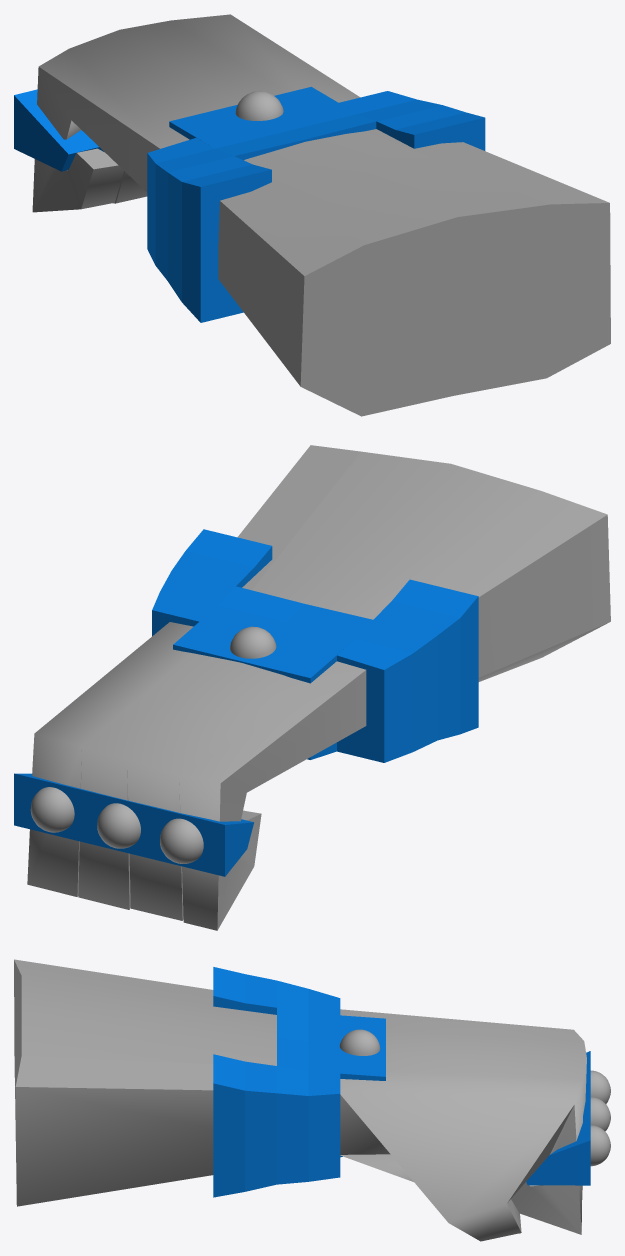
The model's file is Left_Fist.fbx.
3 renders of one model, top to bottom at view 1: azimuth 30°, elevation 25°; view 2: azimuth 150°, elevation 25°; view 3: azimuth 270°, elevation 25°, orthographic. The views are drawn at different scales.
Visible parts, largest first — view 1: Left_Fist; view 2: Left_Fist; view 3: Left_Fist.
Boxes of the visible parts, x1,y1,x2,y2 form: Left_Fist: [14, 14, 610, 416]; Left_Fist: [14, 445, 610, 930]; Left_Fist: [14, 959, 610, 1241].
Bounding box in the file's own units: 1.42 × 0.9491 × 2.72.
